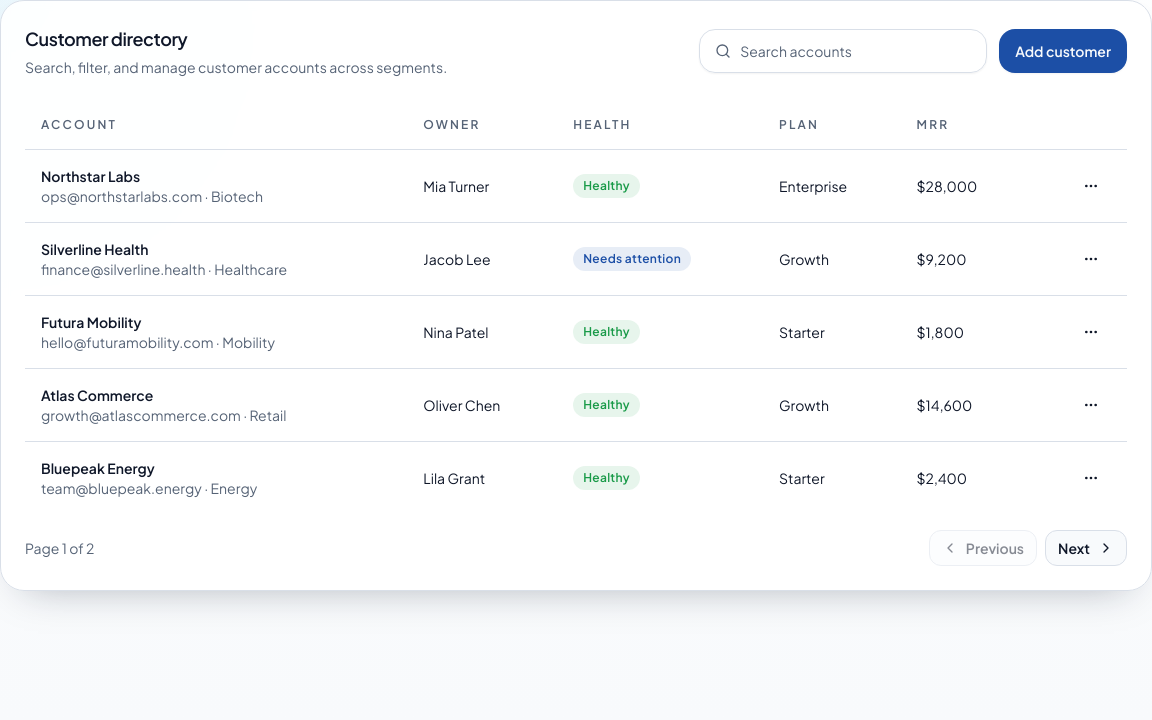
Test case: CustomersTable › paginates long customer lists
The image size is (1152, 720).
Expected: the link "Northstar Labs" is shown, [41,166,140,184]
Expected: the text "Summit AI" is not shown
Click the button "Next": x=1086, y=548 [1045,530,1127,566]
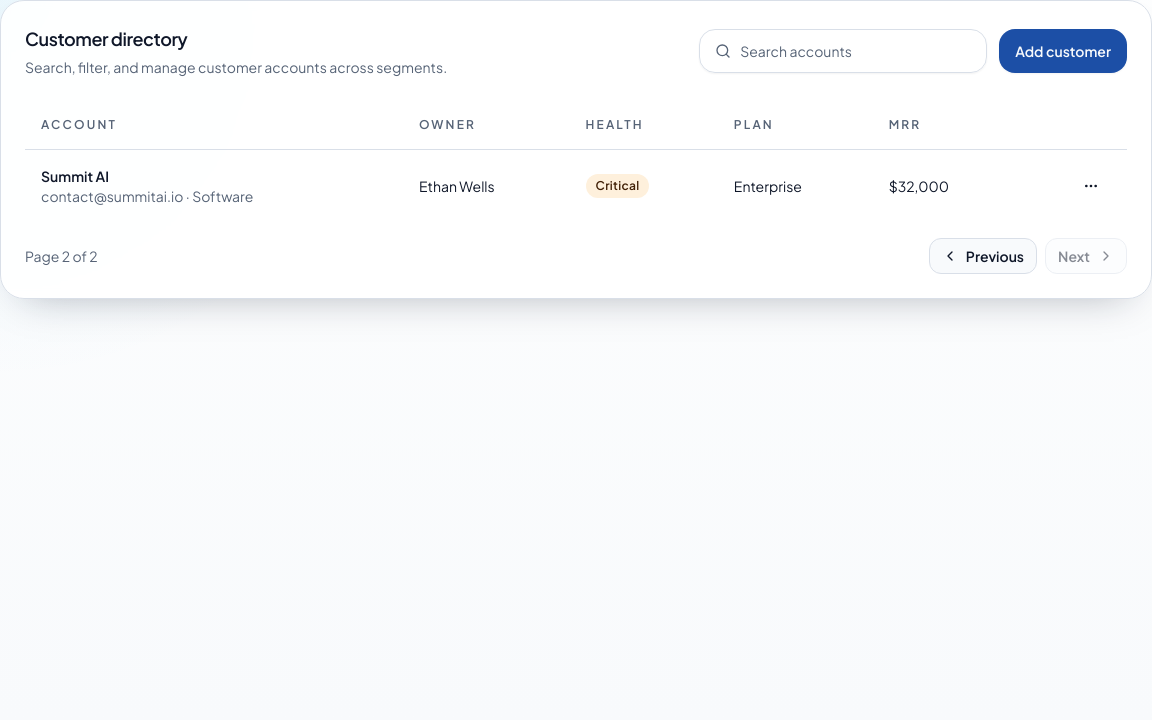
Expected: the link "Summit AI" is shown, [41,166,109,184]
Expected: the link "Northstar Labs" is gone
